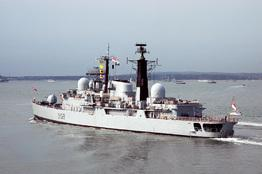warship: (30, 38, 239, 139)
